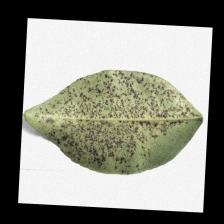canker: (77, 85, 156, 154)
